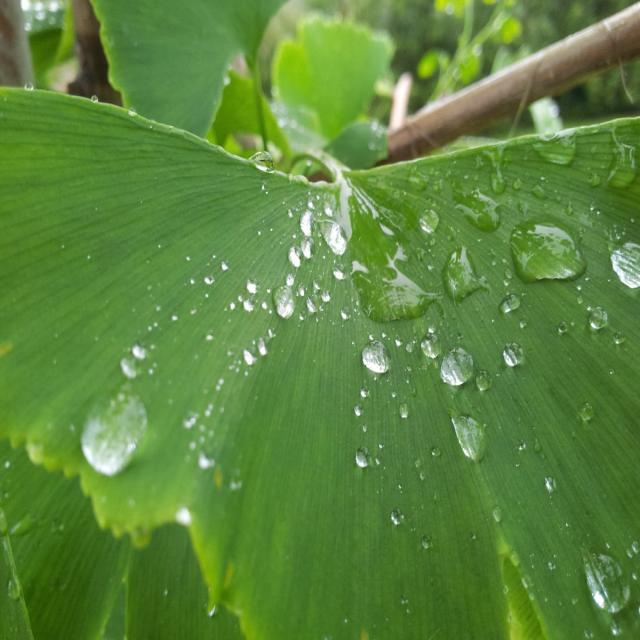raindrop: (64, 377, 159, 516), (503, 200, 594, 302), (570, 540, 640, 633), (420, 334, 480, 408), (442, 404, 504, 469), (354, 325, 397, 388), (268, 280, 310, 337)
